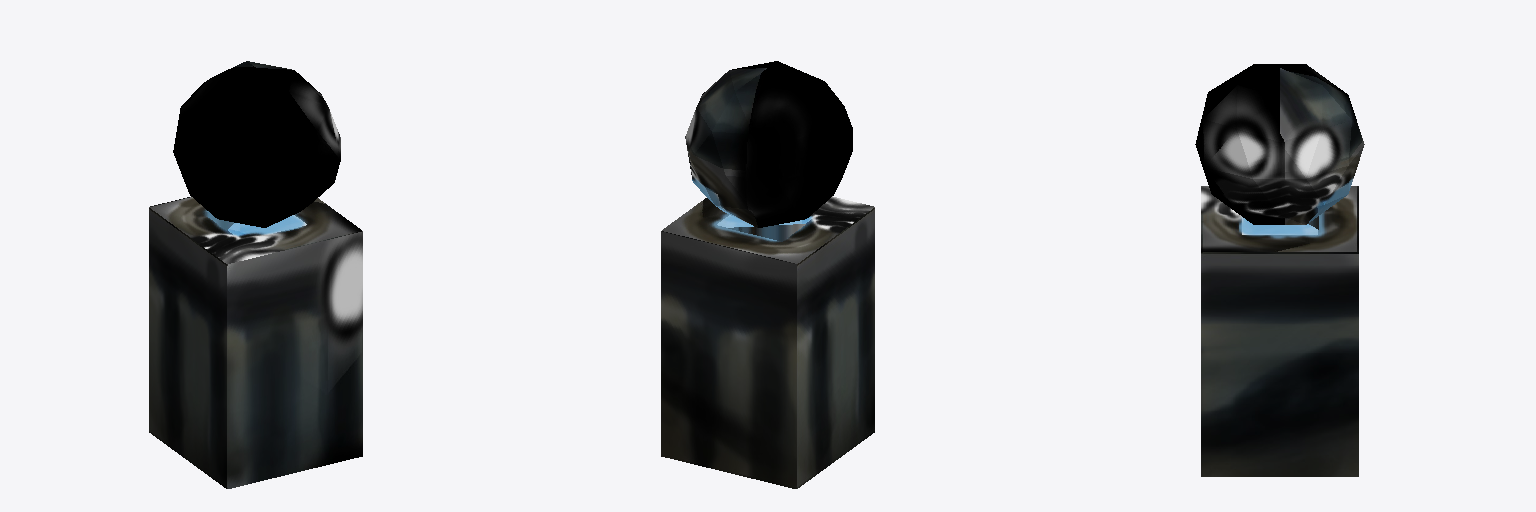
The picture shows the model from 3 angles: view 1: azimuth 30°, elevation 25°; view 2: azimuth 150°, elevation 25°; view 3: azimuth 270°, elevation 25°; orthographic projection.
Visible parts, largest first — view 1: Icosphere; view 2: Icosphere; view 3: Icosphere.
Part boxes in pixels (x1,y1,x2,y2): Icosphere: (149,61,362,488); Icosphere: (661,61,874,488); Icosphere: (1195,64,1364,476).
Size of the model in its own units: 1.29 by 3.24 by 1.32.
Materials: 1 (1 with a texture image).